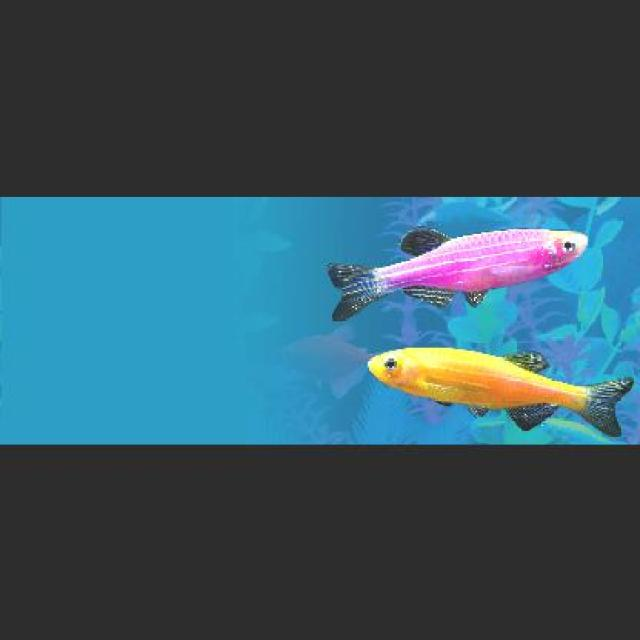ZebraFish: (330, 224, 590, 324), (372, 348, 628, 437)
